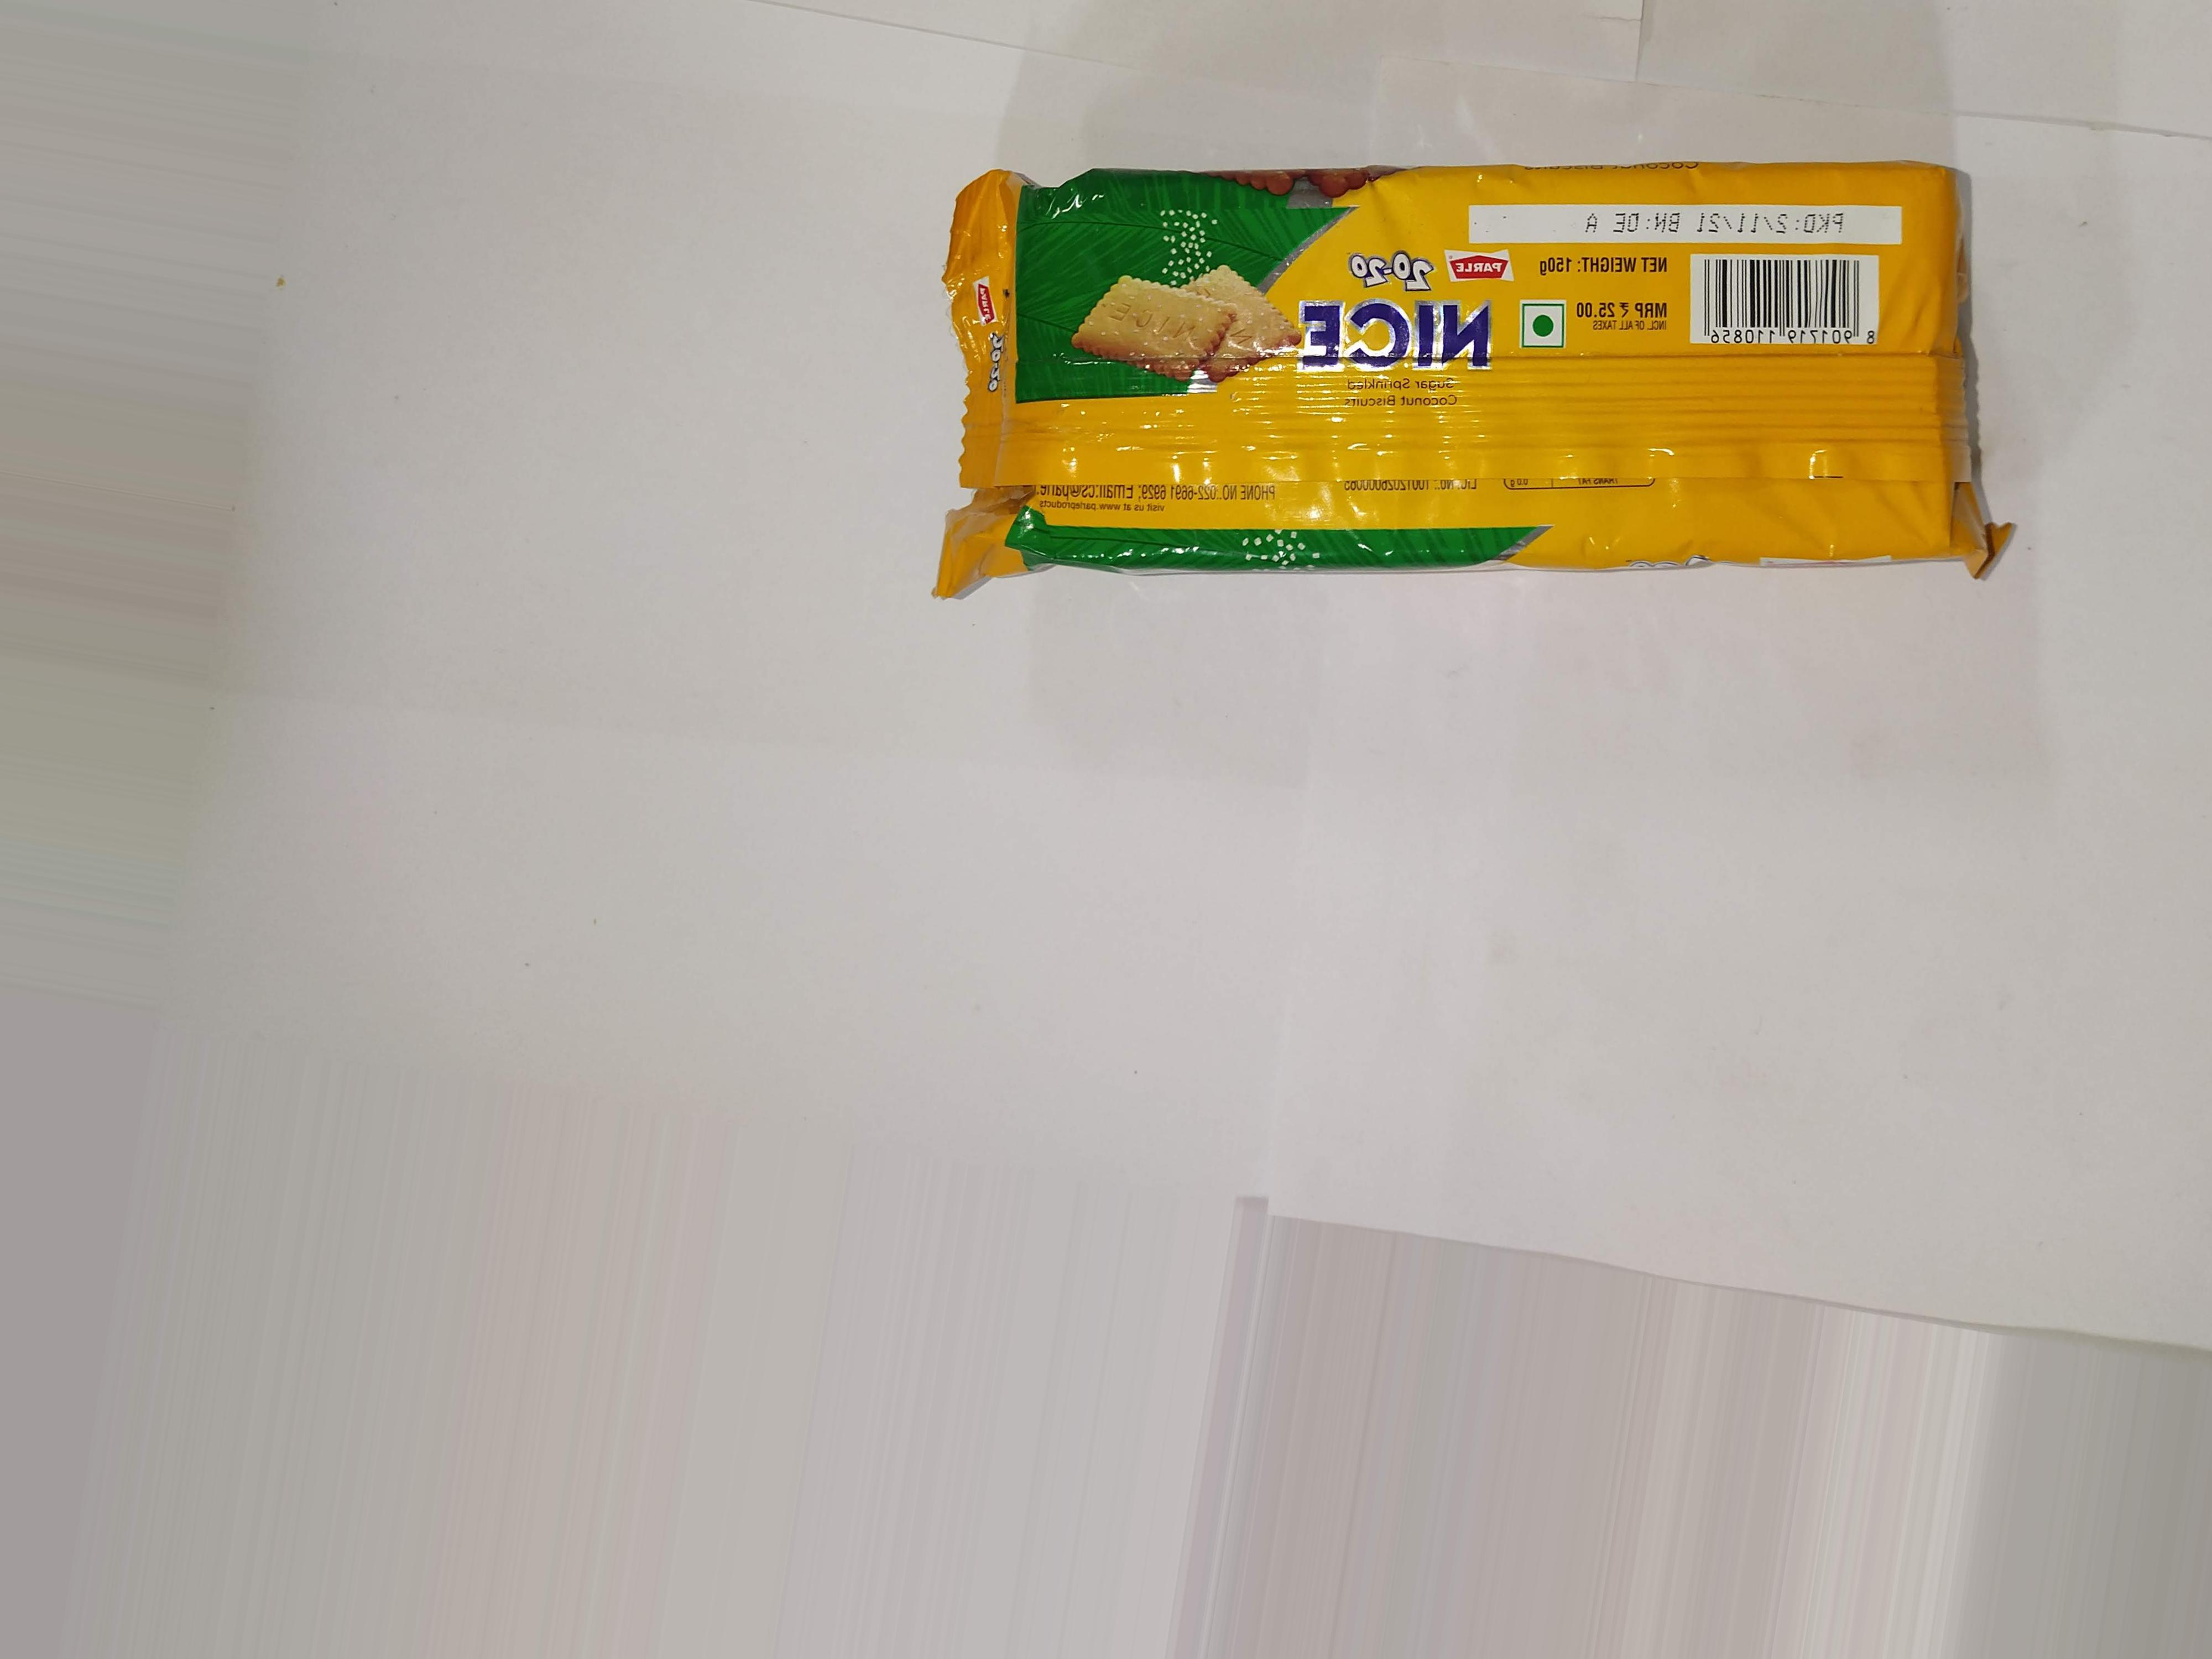Bar_code: (1674, 242, 1926, 383)
Item: (920, 113, 2106, 655)
